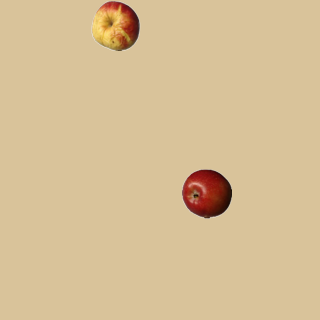Apple Braeburn: (181, 168, 231, 218)
Apple Red Yellow 1: (90, 0, 140, 50)
